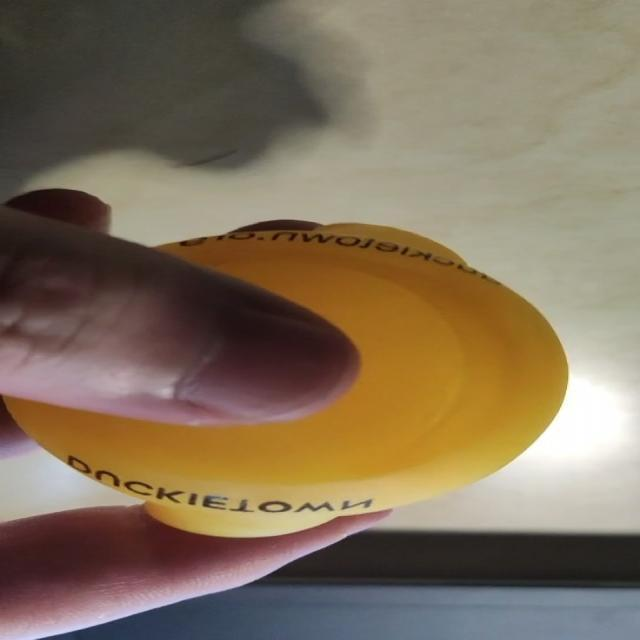rubber-duck: (5, 223, 566, 535)
